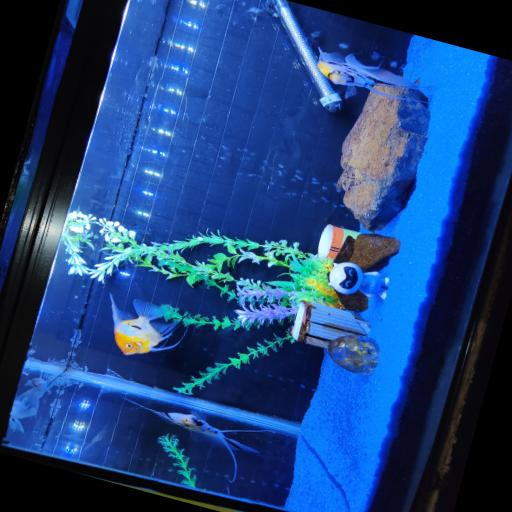Fish: (127, 398, 267, 481), (318, 48, 424, 99), (110, 294, 180, 354), (9, 377, 50, 431), (83, 423, 109, 450)
